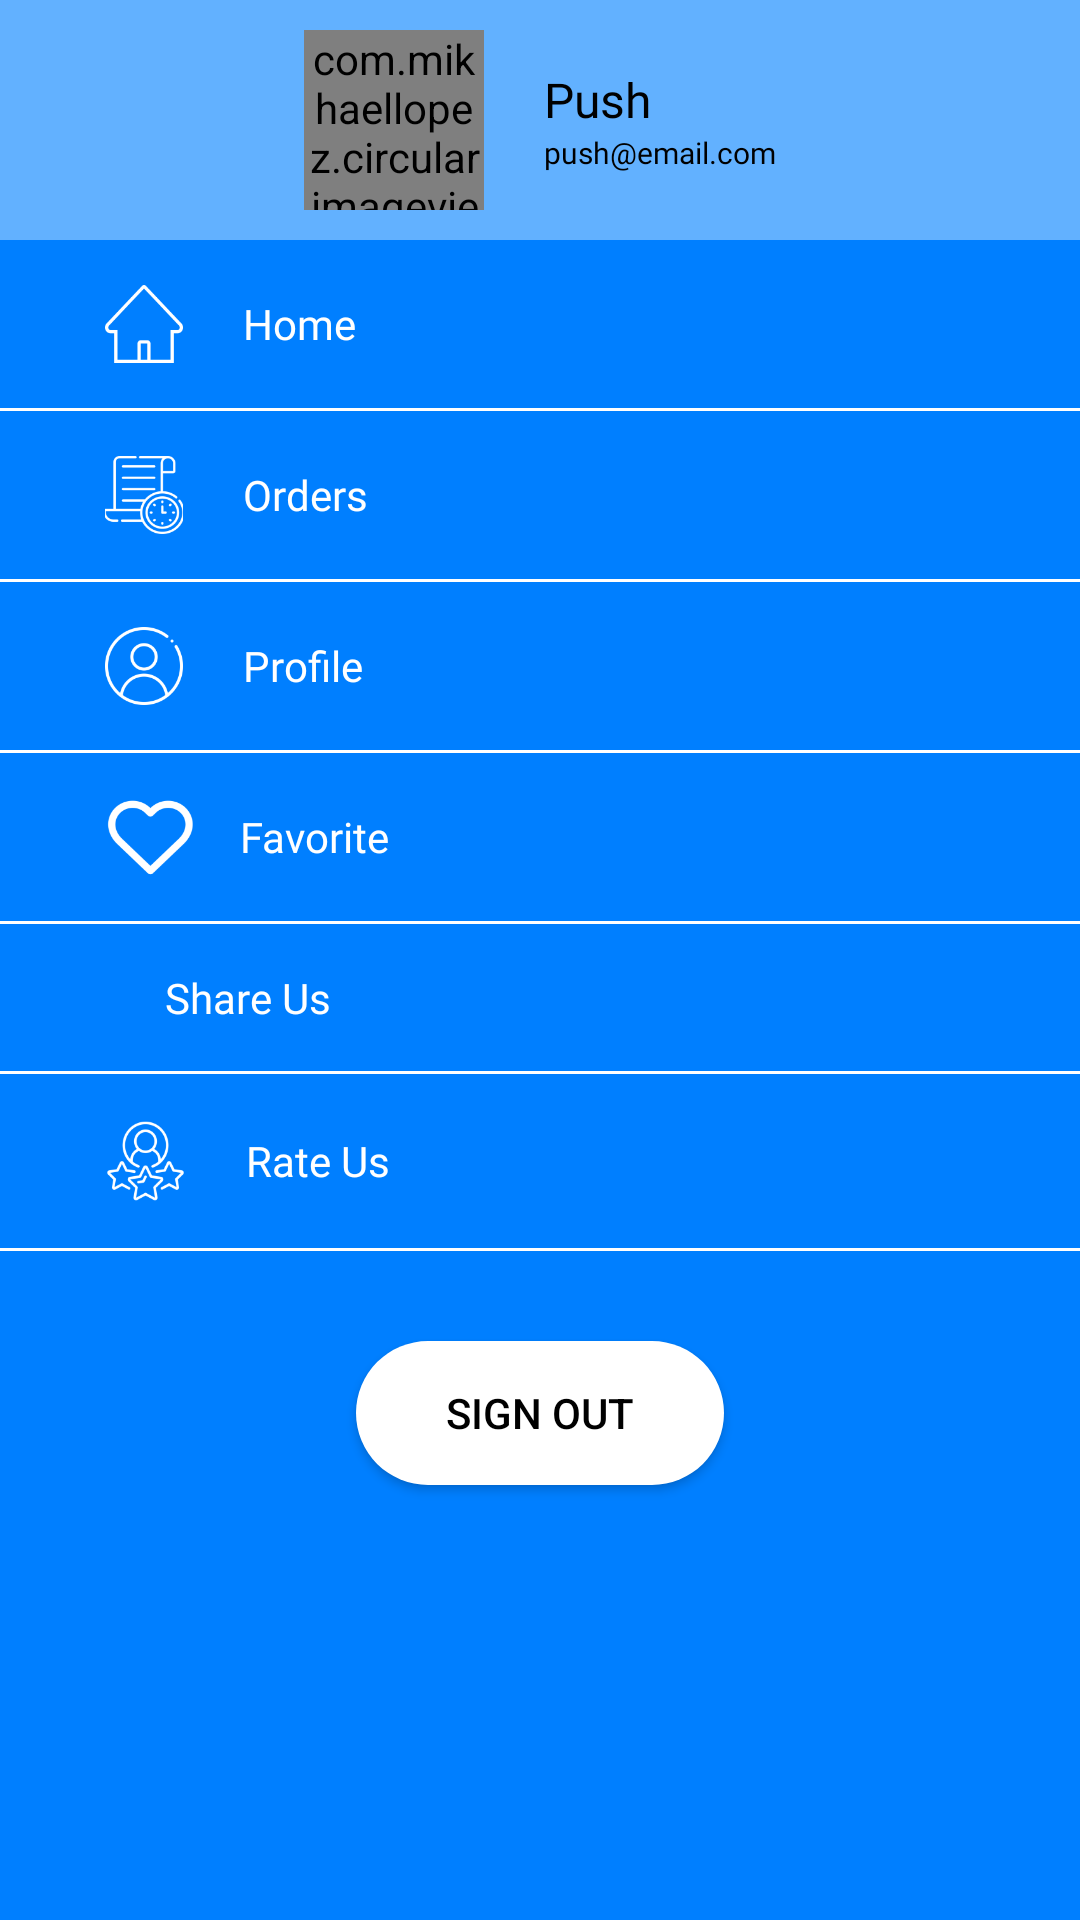

Screen size 1080*1920. Icon name, then its center in pixels as point (x, y):
fav: point (150, 837)
history: point (144, 495)
